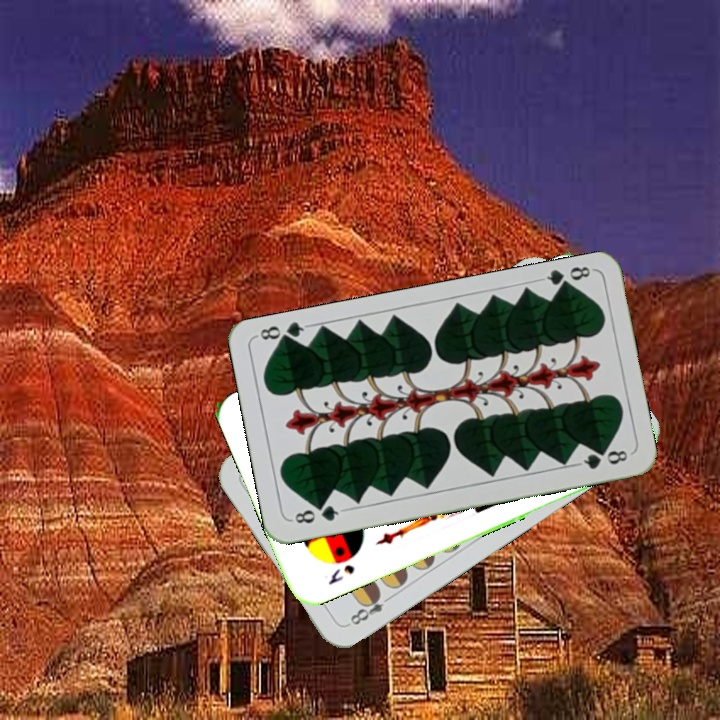E8: (343, 587, 396, 629)
G8: (536, 262, 595, 294), (287, 500, 346, 527)
SK: (324, 560, 358, 588)
